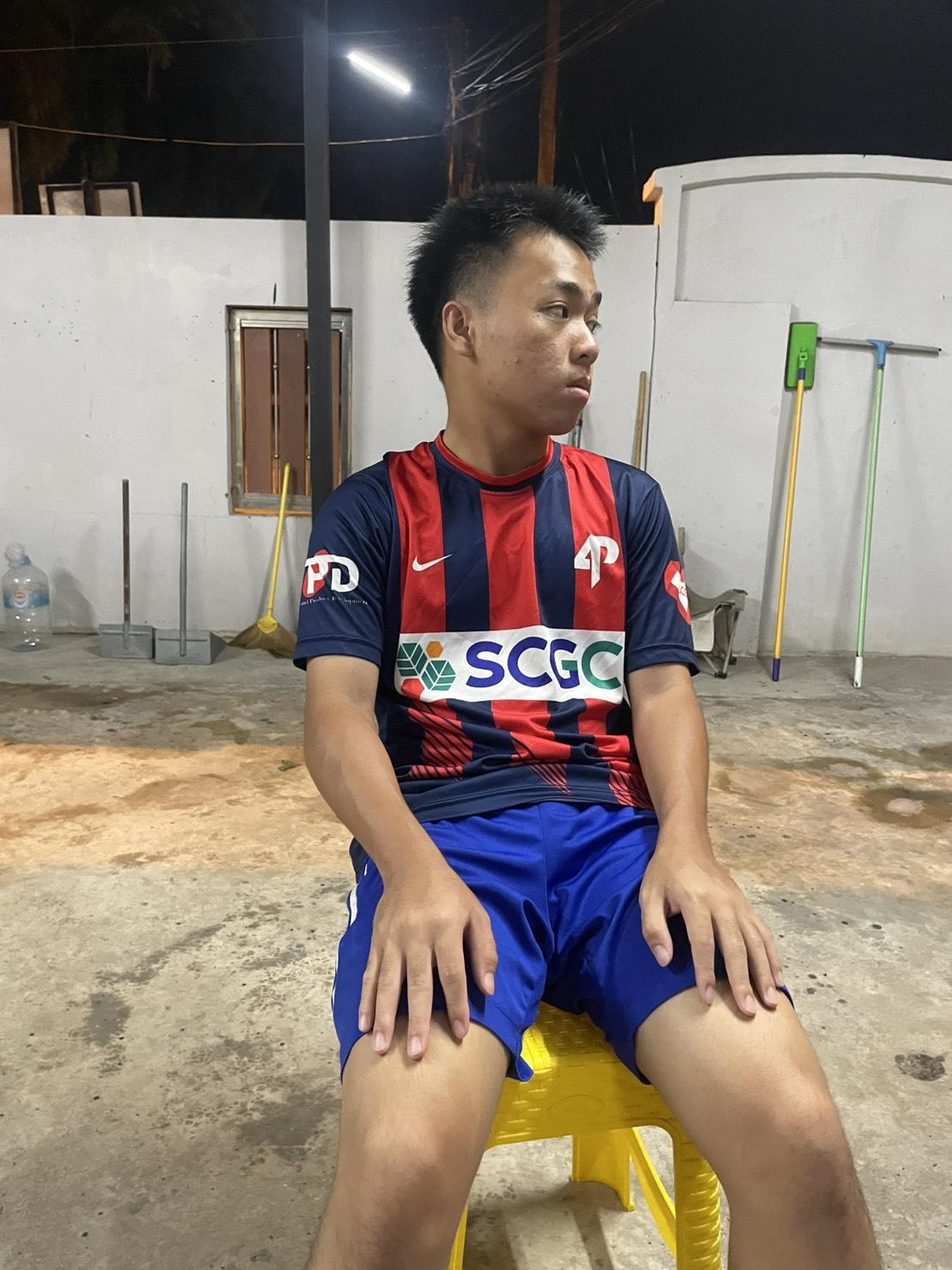BadPosture: (296, 185, 705, 819)
